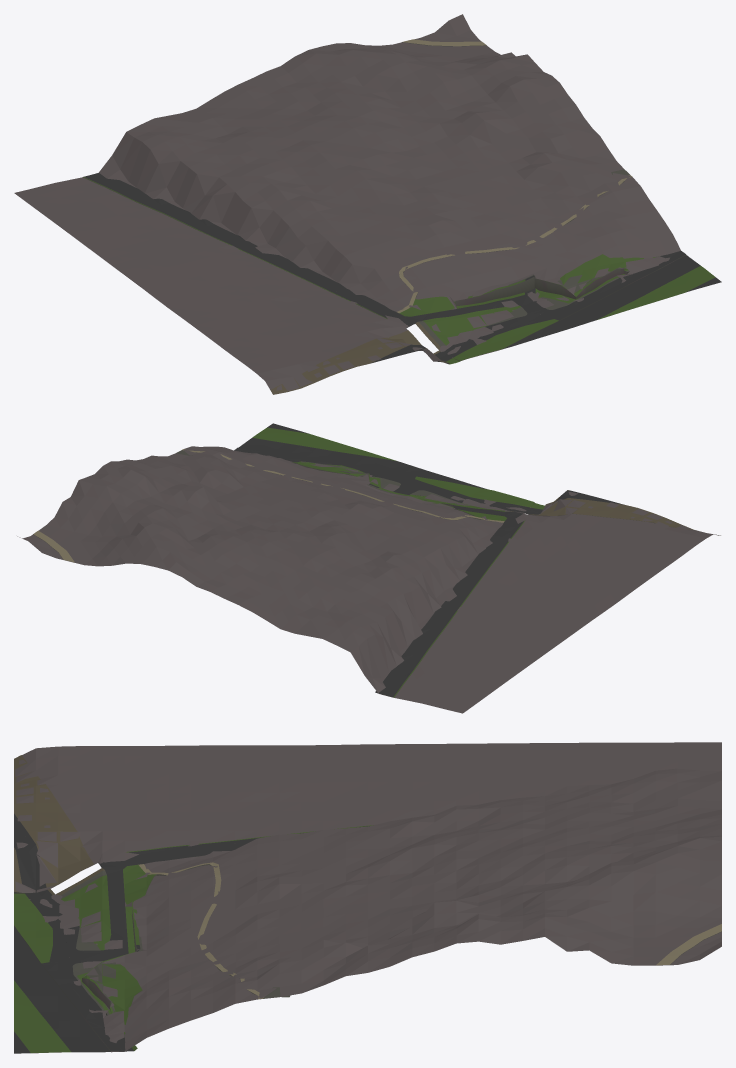
3 views of the same model, one above another, from view 1: azimuth 30°, elevation 25°; view 2: azimuth 150°, elevation 25°; view 3: azimuth 270°, elevation 25° (orthographic). The views are drawn at different scales.
Parts seen in each view (by area): view 1: c_m07_m15; view 2: c_m07_m15; view 3: c_m07_m15.
Part boxes in pixels (<box>): c_m07_m15: <box>14,14,721,394</box>; c_m07_m15: <box>17,423,720,713</box>; c_m07_m15: <box>14,742,721,1053</box>.
Size of the model in its own units: 128 by 28.2 by 128.
